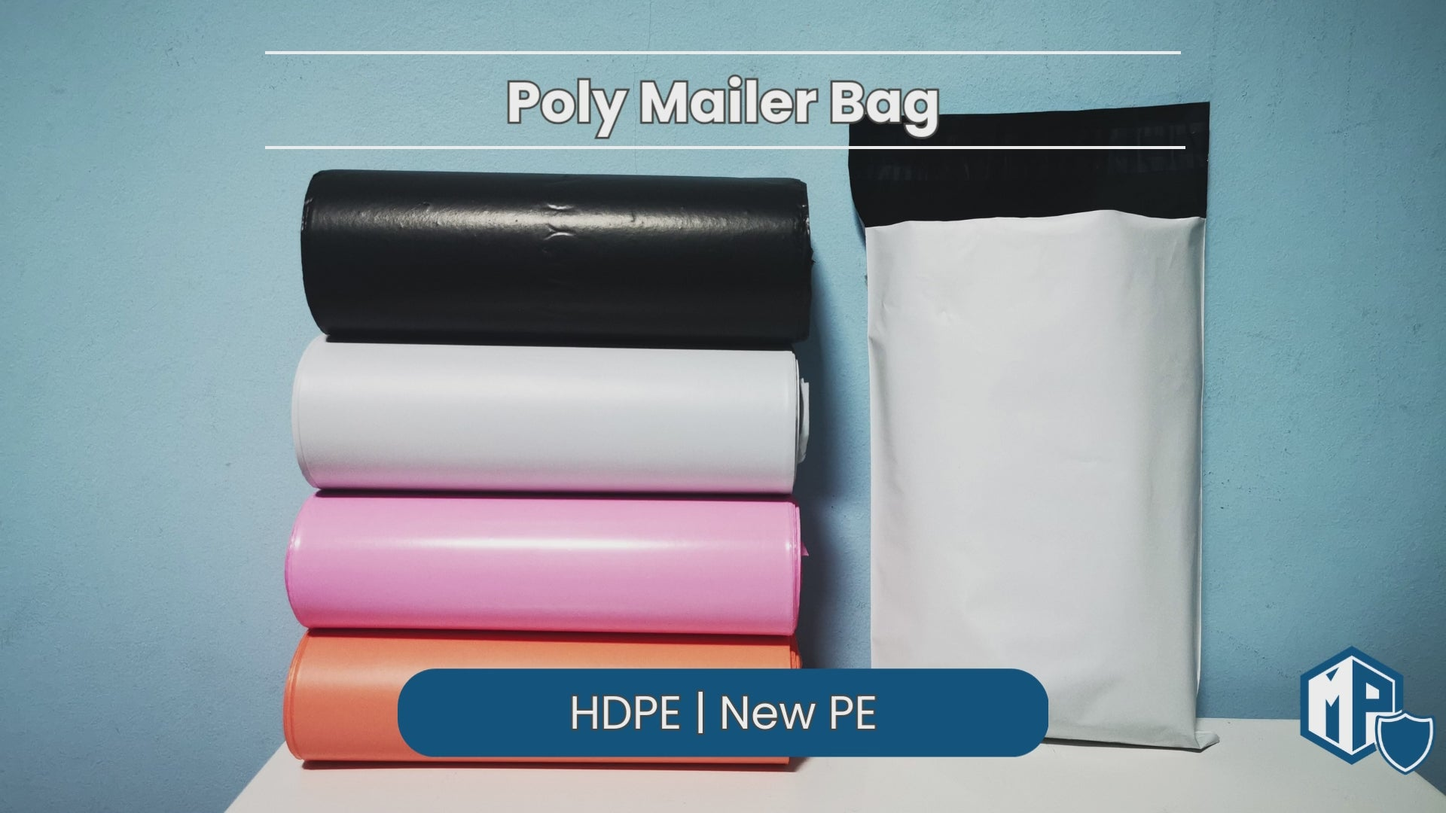塑料袋: (849, 103, 1211, 748), (300, 170, 814, 348), (292, 339, 808, 497), (282, 631, 801, 770), (286, 497, 799, 636)
